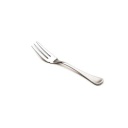Fork: (30, 37, 113, 94)
